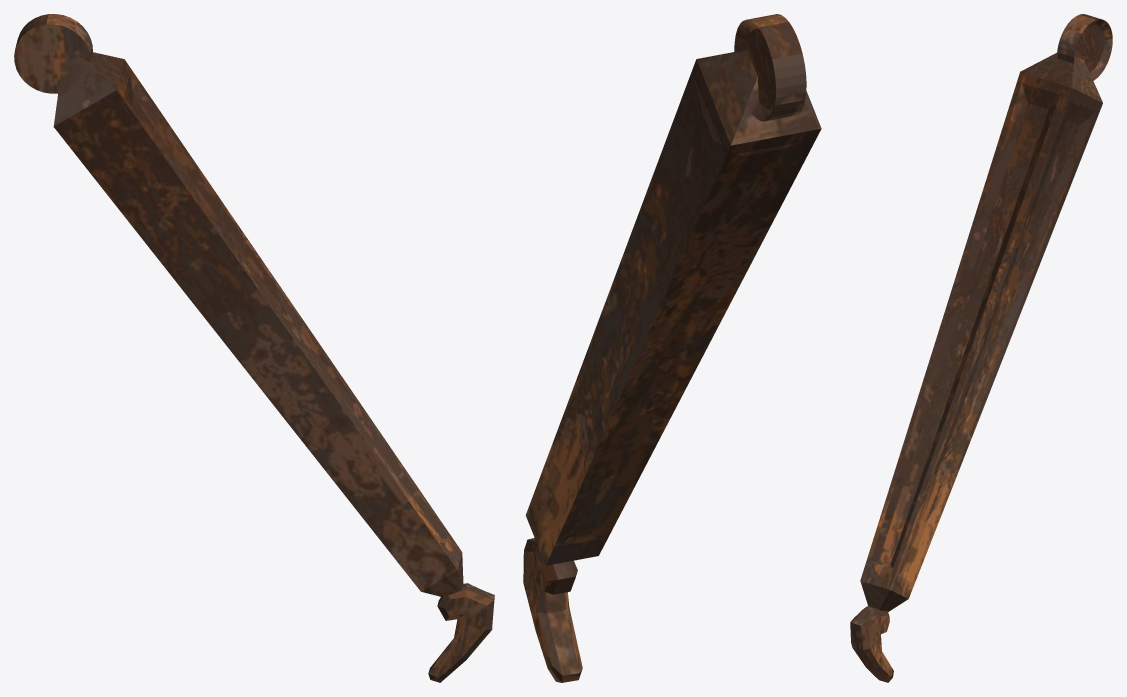
Rendered from Pata inferior.obj.
3 views of the same model, side by side, from view 1: azimuth 30°, elevation 25°; view 2: azimuth 150°, elevation 25°; view 3: azimuth 270°, elevation 25° (orthographic). The views are drawn at different scales.
Parts seen in each view (by area): view 1: Paa_inferior; view 2: Paa_inferior; view 3: Paa_inferior.
Boxes of the visible parts, <box> form: Paa_inferior: <box>14,14,494,682</box>; Paa_inferior: <box>523,14,821,682</box>; Paa_inferior: <box>850,14,1112,682</box>.
Bounding box in the file's own units: 1.96 × 3.48 × 1.51.
1 material, 1 textured.
